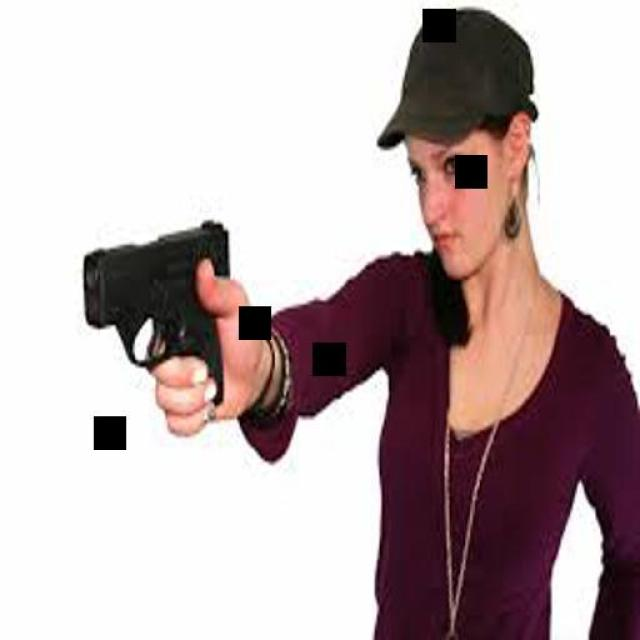gun: (75, 205, 231, 429)
